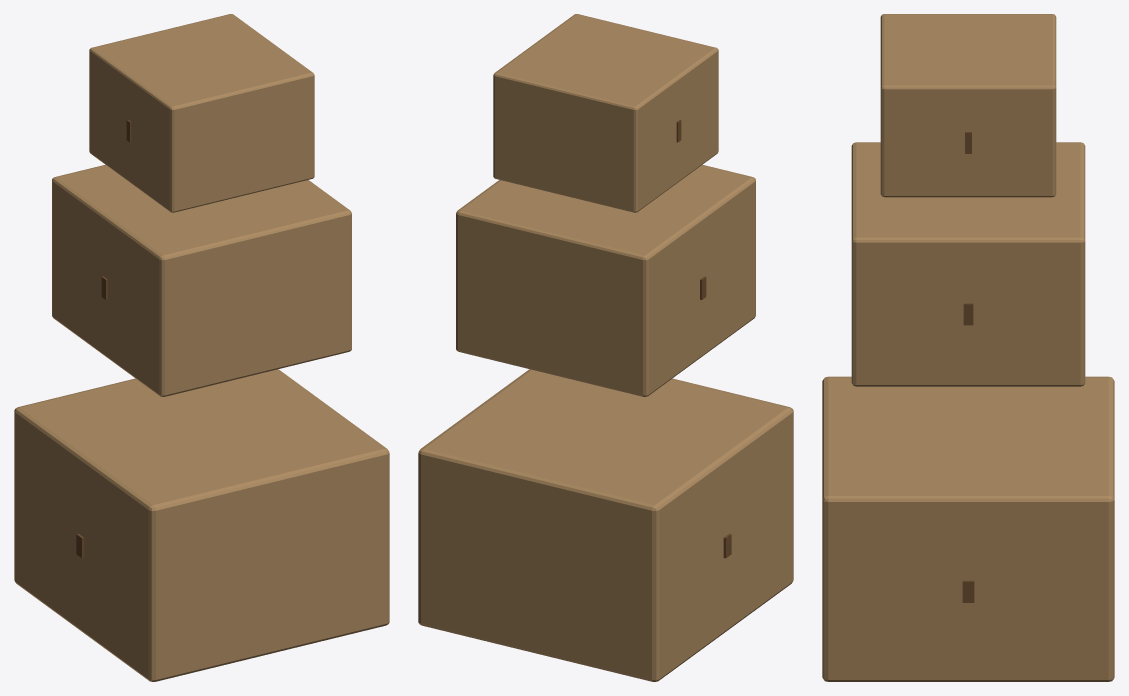
The model's file is crate_stack.glb.
3 renders of one model, left to right at view 1: azimuth 30°, elevation 25°; view 2: azimuth 150°, elevation 25°; view 3: azimuth 270°, elevation 25°, orthographic. The views are drawn at different scales.
Visible parts, largest first — view 1: crate_stack; view 2: crate_stack; view 3: crate_stack.
Part boxes in pixels (x1=…): crate_stack: x1=14, y1=14, x2=389, y2=681; crate_stack: x1=418, y1=14, x2=793, y2=681; crate_stack: x1=822, y1=14, x2=1114, y2=681.
Size of the model in its own units: 0.51 by 1.08 by 0.5.
